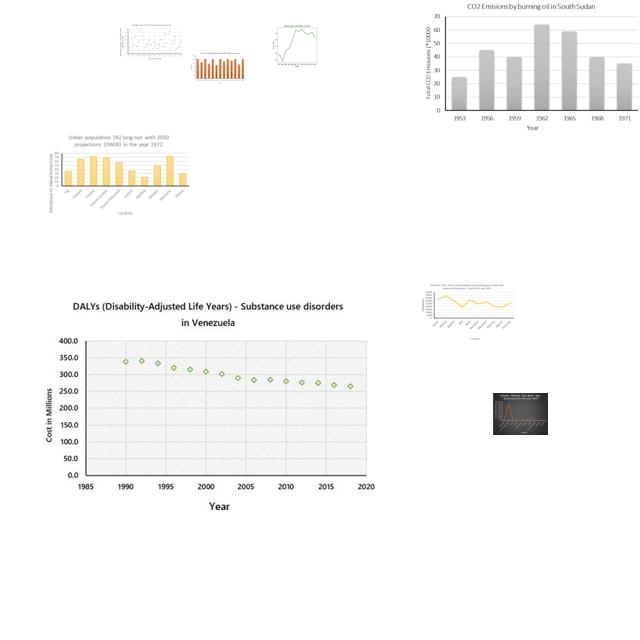Graph: (37, 295, 379, 513), (422, 0, 640, 133), (46, 133, 191, 217), (418, 282, 516, 341), (266, 22, 327, 68), (118, 23, 184, 61), (493, 393, 548, 435), (189, 51, 248, 85)
